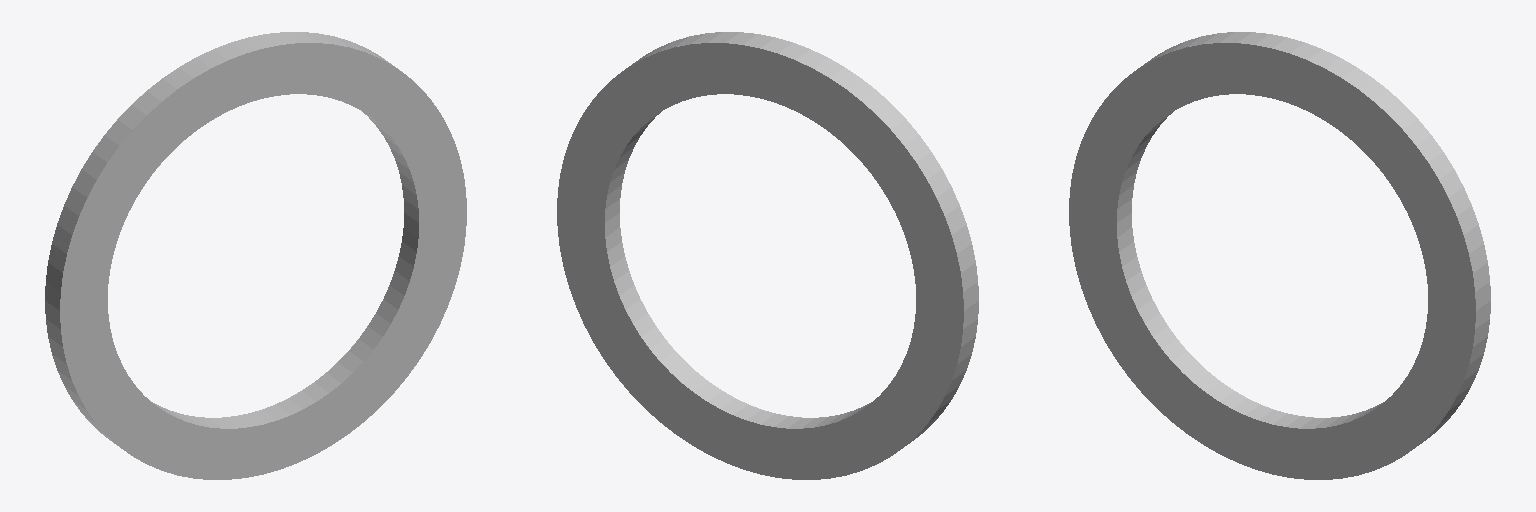
Rendered from OuterPixels_NegativeEndcap_Ring0_passives_l31.obj.
3 renders of one model, left to right at view 1: azimuth 30°, elevation 25°; view 2: azimuth 150°, elevation 25°; view 3: azimuth 330°, elevation 25°, orthographic.
Bounding box in the file's own units: 383 × 383 × 24.6.